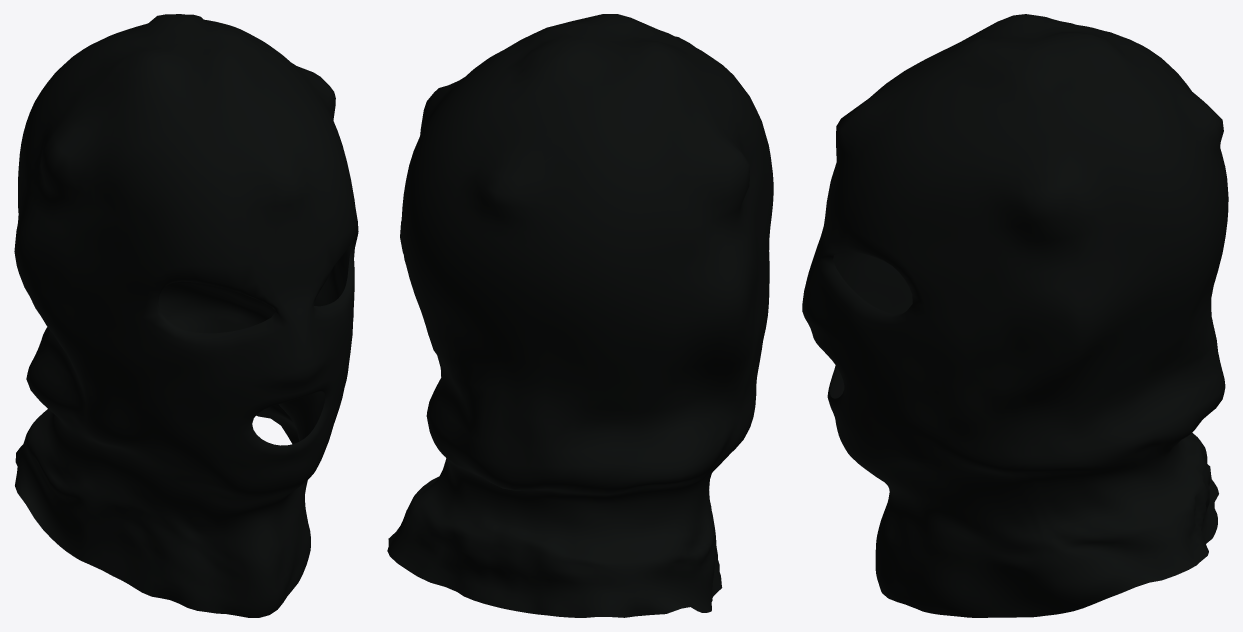
Rendered from passamontagna.glb.
3 views of the same model, side by side, from view 1: azimuth 30°, elevation 25°; view 2: azimuth 150°, elevation 25°; view 3: azimuth 270°, elevation 25° (orthographic). The views are drawn at different scales.
Parts seen in each view (by area): view 1: Circle; view 2: Circle; view 3: Circle.
Part boxes in pixels (left/top/right/bottom): Circle: left=14, top=14, right=358, bottom=617; Circle: left=387, top=14, right=773, bottom=617; Circle: left=802, top=14, right=1228, bottom=617.
Size of the model in its own units: 1.93 by 3.18 by 2.2.
Materials: 1 (1 with a texture image).
